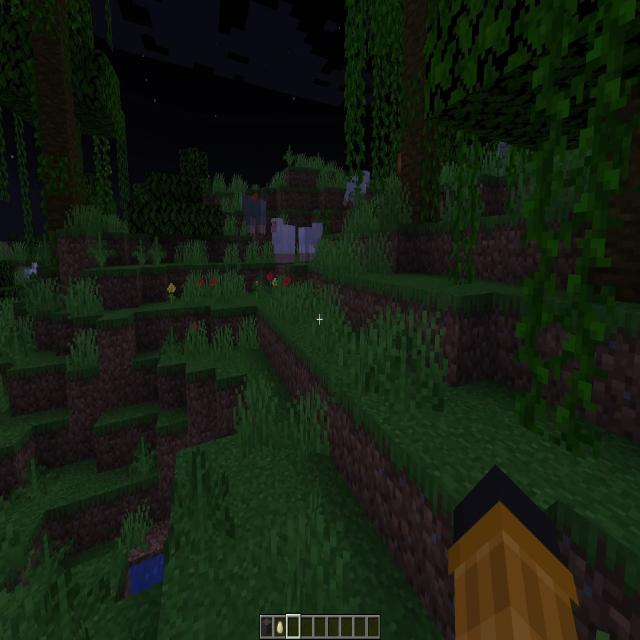Chicken: (28, 262, 36, 282)
Sheep: (272, 218, 296, 264), (242, 195, 266, 234), (299, 225, 322, 259), (347, 173, 367, 205)
